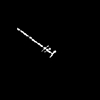treble_crochet: (18, 29, 55, 55)
